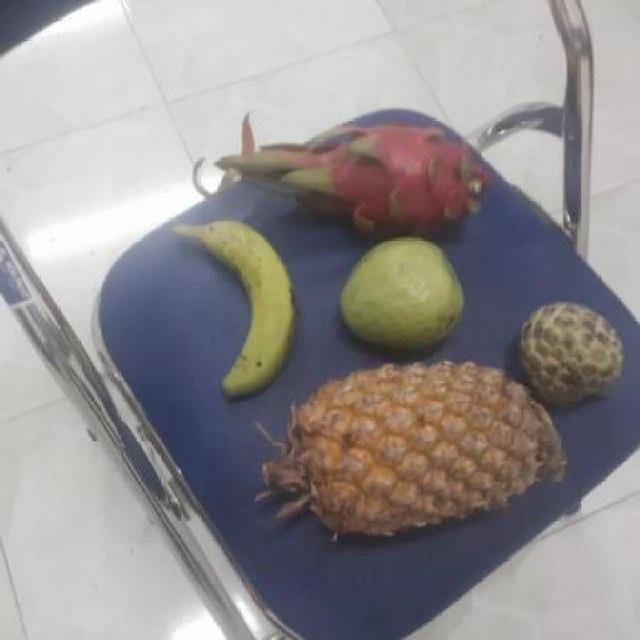banana: (181, 223, 296, 392)
dragon fruit: (298, 110, 480, 244)
guava: (335, 231, 467, 351)
pineapple: (278, 360, 550, 534)
sugar apple: (511, 304, 624, 410)
